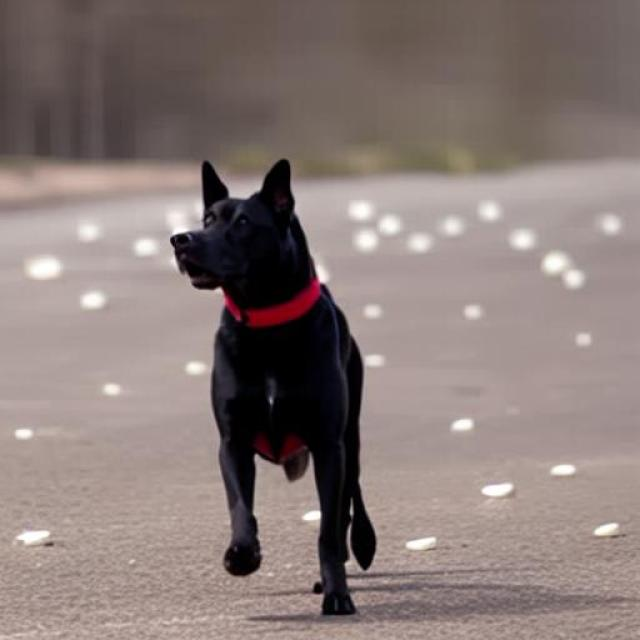Dog: (170, 158, 377, 618)
